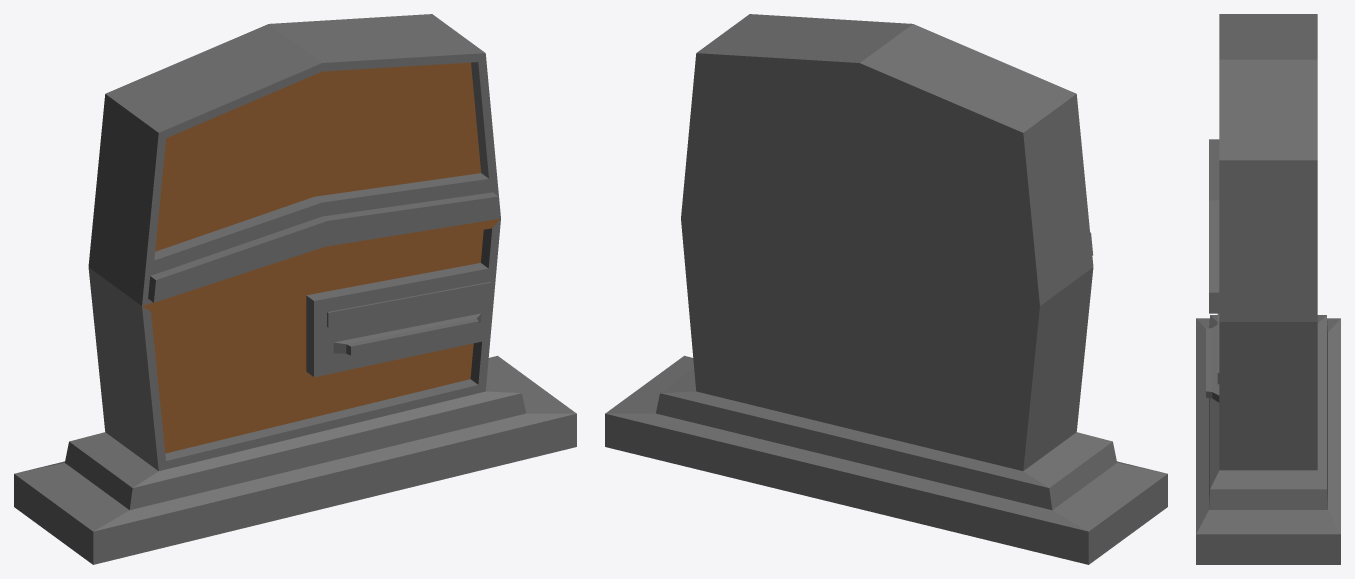
The model's file is lapida.fbx.
3 views of the same model, side by side, from view 1: azimuth 30°, elevation 25°; view 2: azimuth 150°, elevation 25°; view 3: azimuth 270°, elevation 25° (orthographic). The views are drawn at different scales.
Visible parts, largest first — view 1: Cube; view 2: Cube; view 3: Cube.
Boxes of the visible parts, x1,y1,x2,y2 form: Cube: (14,14,576,564); Cube: (605,14,1167,564); Cube: (1196,14,1340,564).
Size of the model in its own units: 299 by 256 by 84.77.
